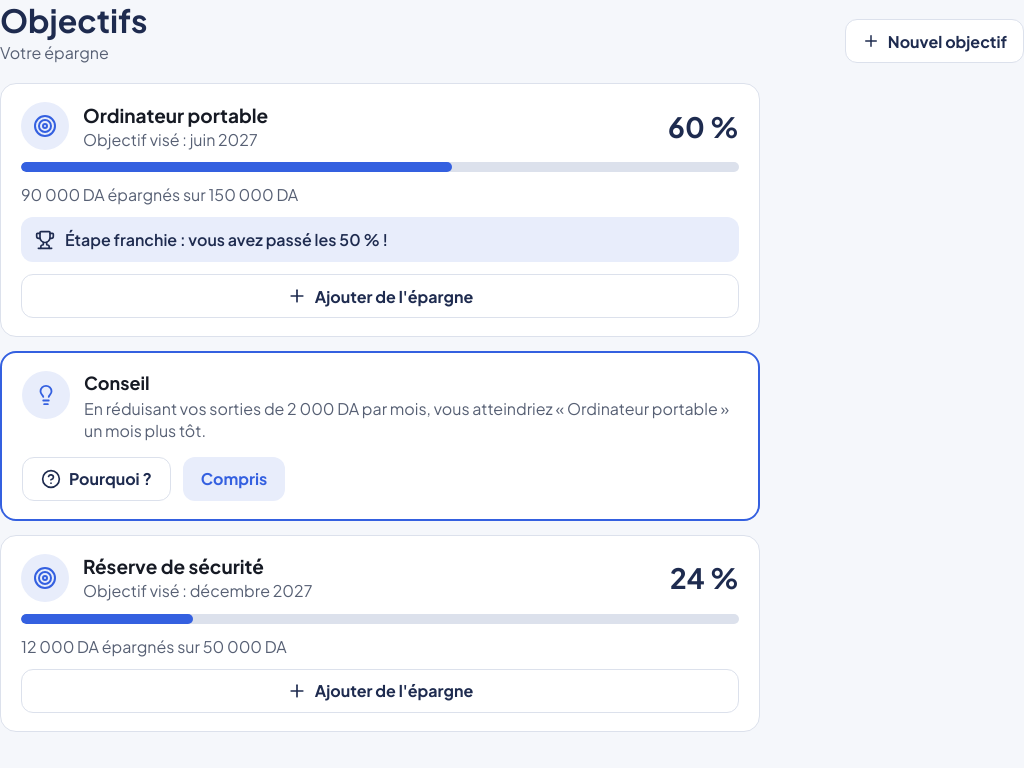
Test case: carte Conseil (H5) › « Pourquoi ? » : phrase et « Gérer les conseils » ; la croix ferme, la carte reste
The width and height of the screenshot is (1024, 768).
Later steps or results of the test are not shown.
Step 1. Click the button "Pourquoi ?" → (96, 479), box [22, 457, 171, 501]
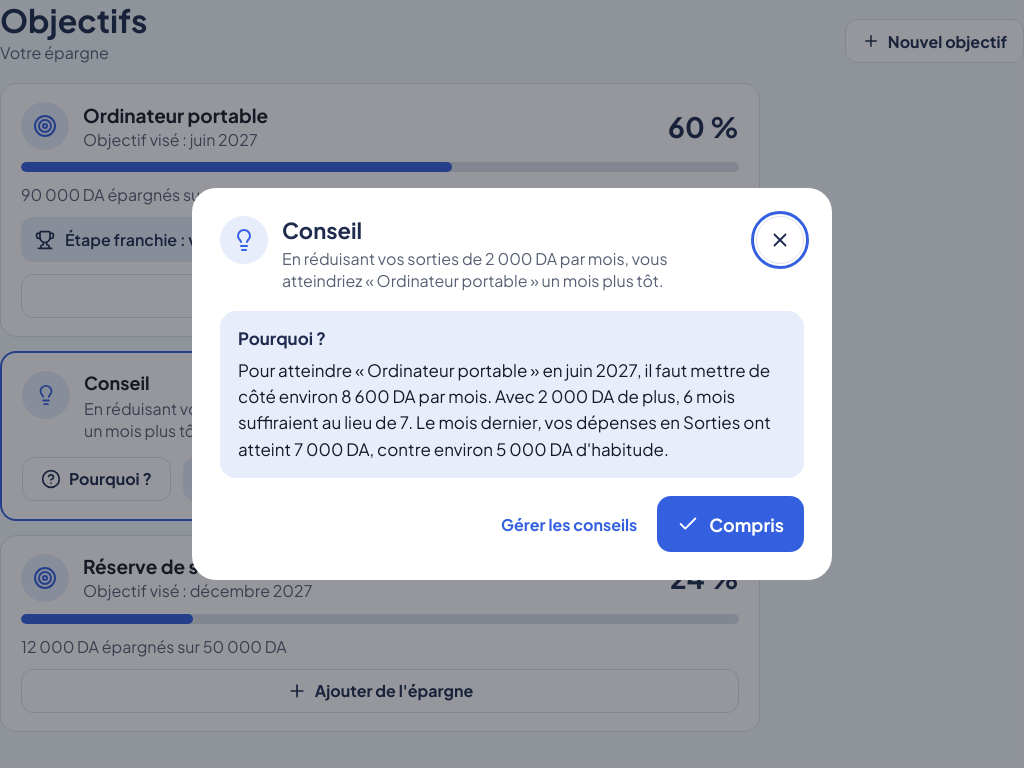
expect the dialog "Conseil" shows "il faut mettre de côté environ 8 600 DA par mois. Avec 2 000 DA de plus, 6 mois suffiraient au lieu de 7.": met, box [238, 359, 771, 460]
expect the dialog "Conseil" shows "vos dépenses en Sorties ont atteint 7 000 DA, contre environ 5 000 DA d'habitude.": met, box [238, 359, 771, 460]
